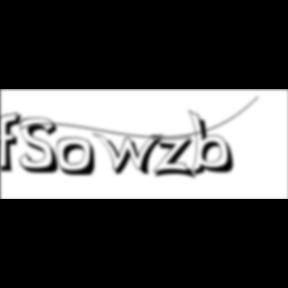S: (20, 117, 66, 176)
b: (188, 109, 242, 179)
f: (1, 111, 28, 175)
o: (57, 137, 99, 179)
w: (93, 132, 171, 178)
z: (152, 134, 200, 182)
